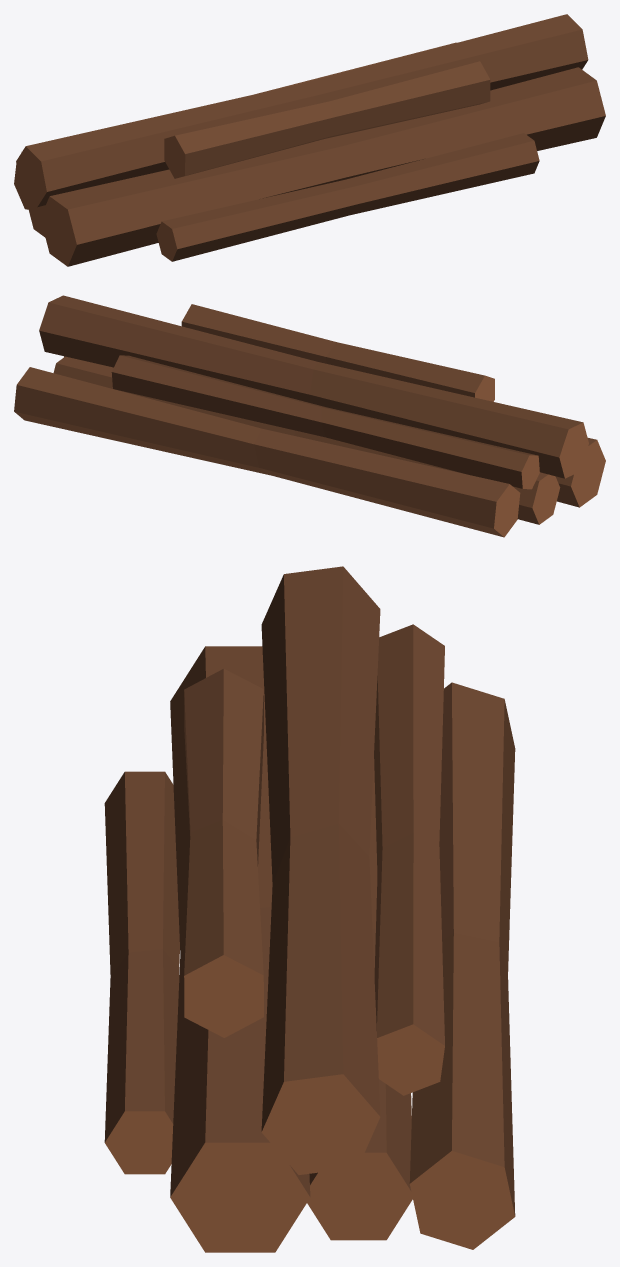
The model's file is Log_8_Brown.fbx.
3 renders of one model, top to bottom at view 1: azimuth 30°, elevation 25°; view 2: azimuth 150°, elevation 25°; view 3: azimuth 270°, elevation 25°, orthographic. The views are drawn at different scales.
Visible parts, largest first — view 1: Log_8_Brown; view 2: Log_8_Brown; view 3: Log_8_Brown.
Part boxes in pixels (x1,y1,x2,y2): Log_8_Brown: (14, 14, 605, 266); Log_8_Brown: (14, 295, 605, 537); Log_8_Brown: (104, 566, 515, 1252).
Size of the model in its own units: 431 by 76.27 by 147.
